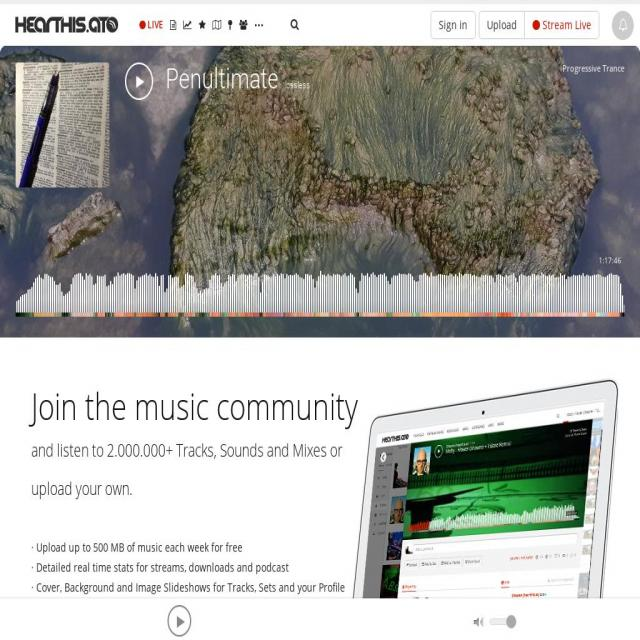audio: (0, 600, 640, 640)
login-option: (432, 8, 478, 40)
navigation-links: (164, 13, 268, 40)
search: (284, 16, 310, 36)
upload: (484, 14, 525, 34)
video: (0, 47, 640, 335)
volume: (466, 610, 520, 635)
